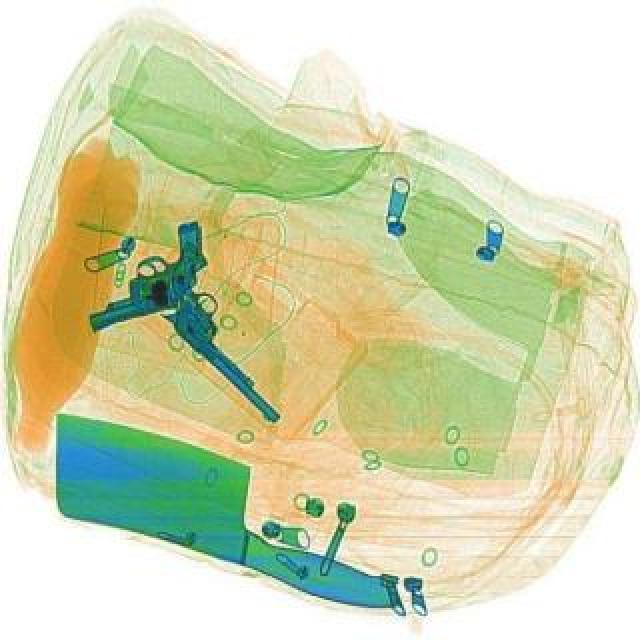gun: (148, 268, 304, 432), (62, 216, 234, 348)
knife: (20, 398, 428, 618)
